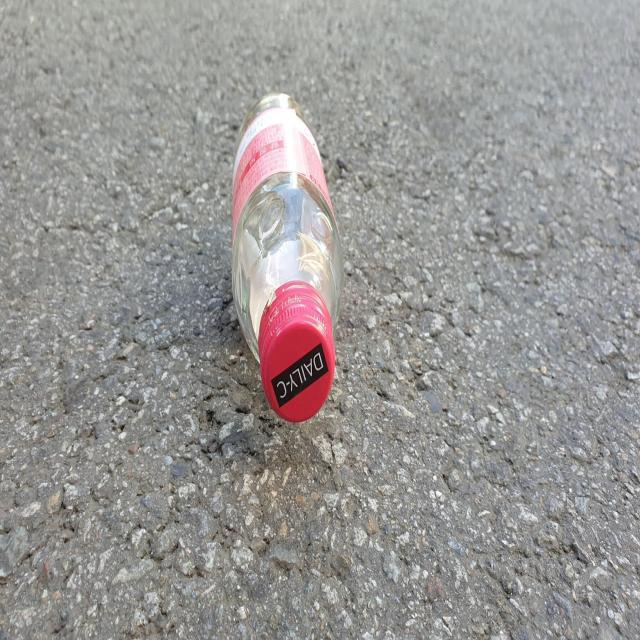glass: (232, 94, 343, 422)
